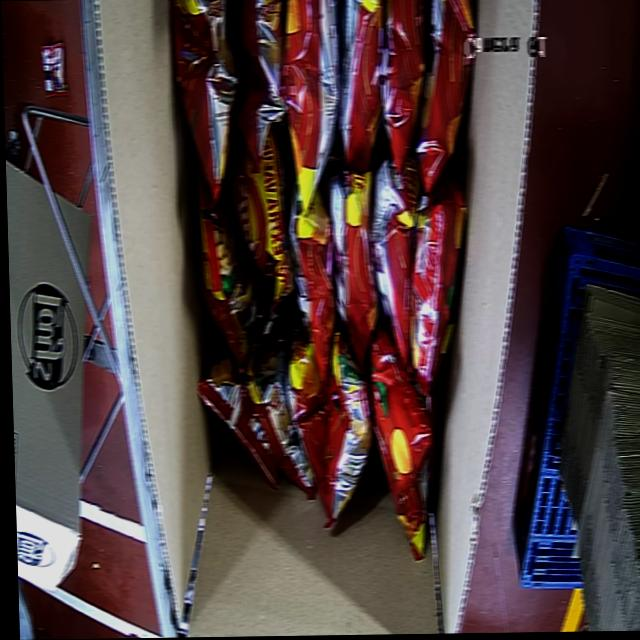MASALA: (169, 0, 492, 562)
